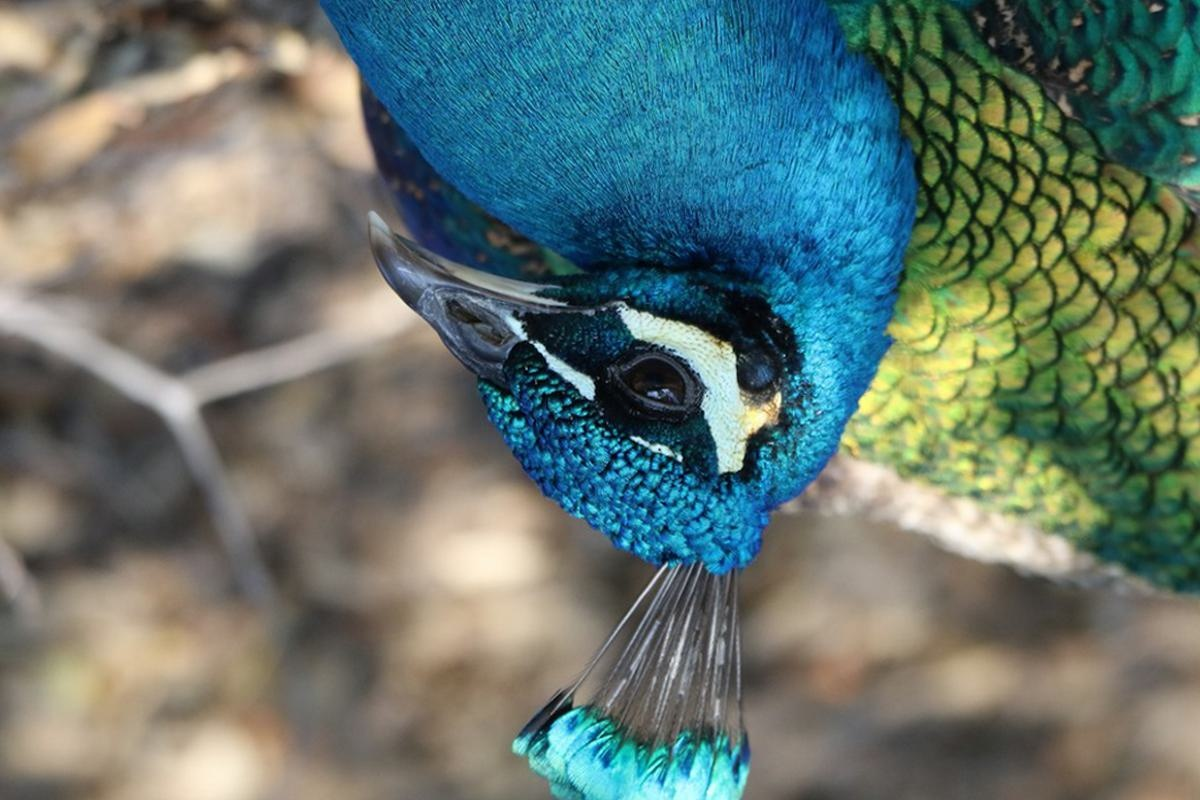peacock: (386, 1, 1200, 633)
